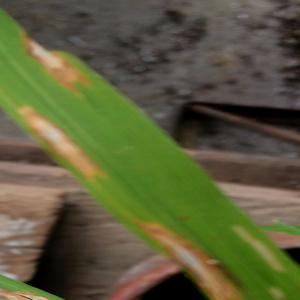1 RiceBlast: (9, 96, 112, 191), (135, 211, 248, 297), (16, 16, 99, 93)
